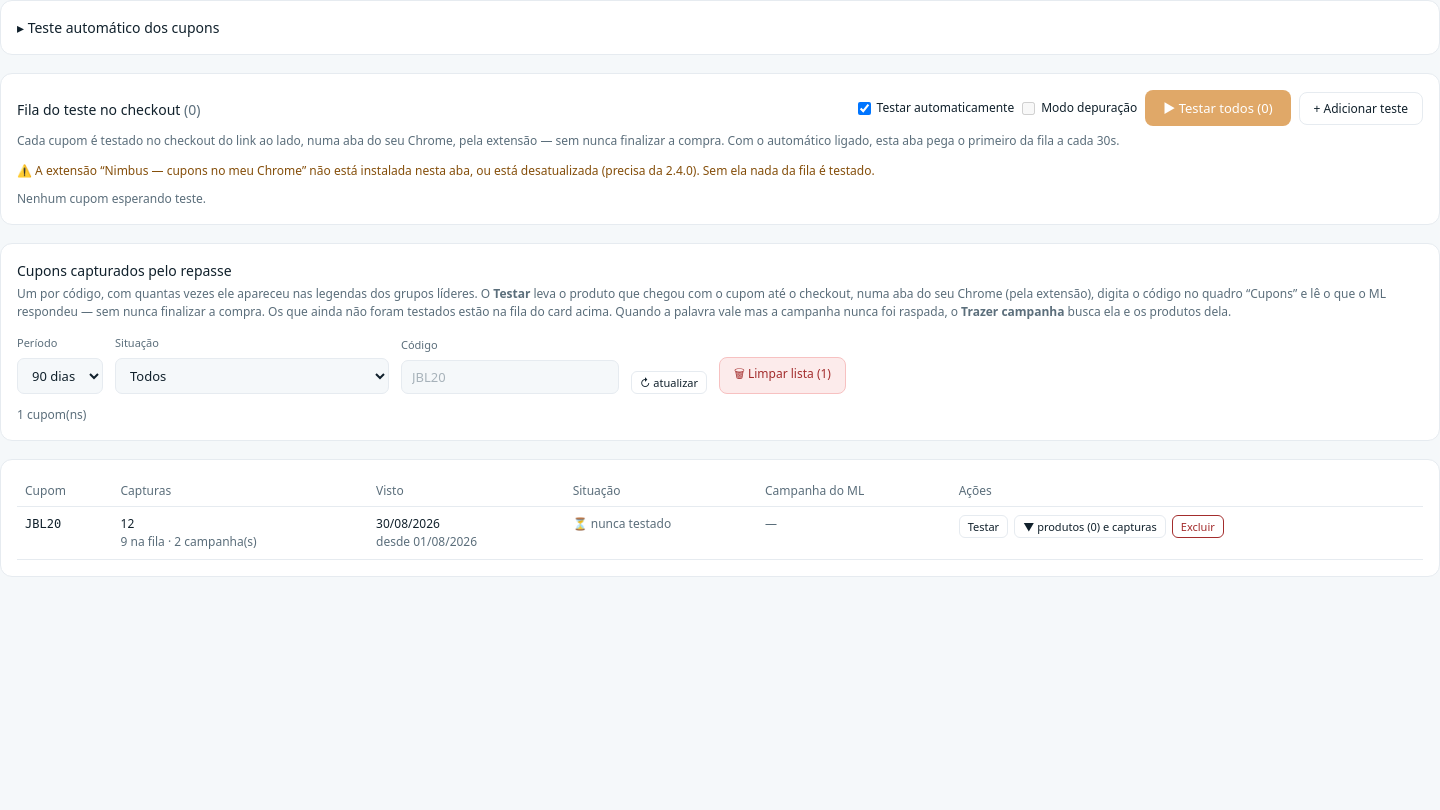
Test: Admin › Cupom › Repasse › expandir a linha busca as capturas daquele cupom
Click the button "▼ produtos (0) e capturas".
click(1090, 526)  # box x1=1014 y1=514 x2=1166 y2=538
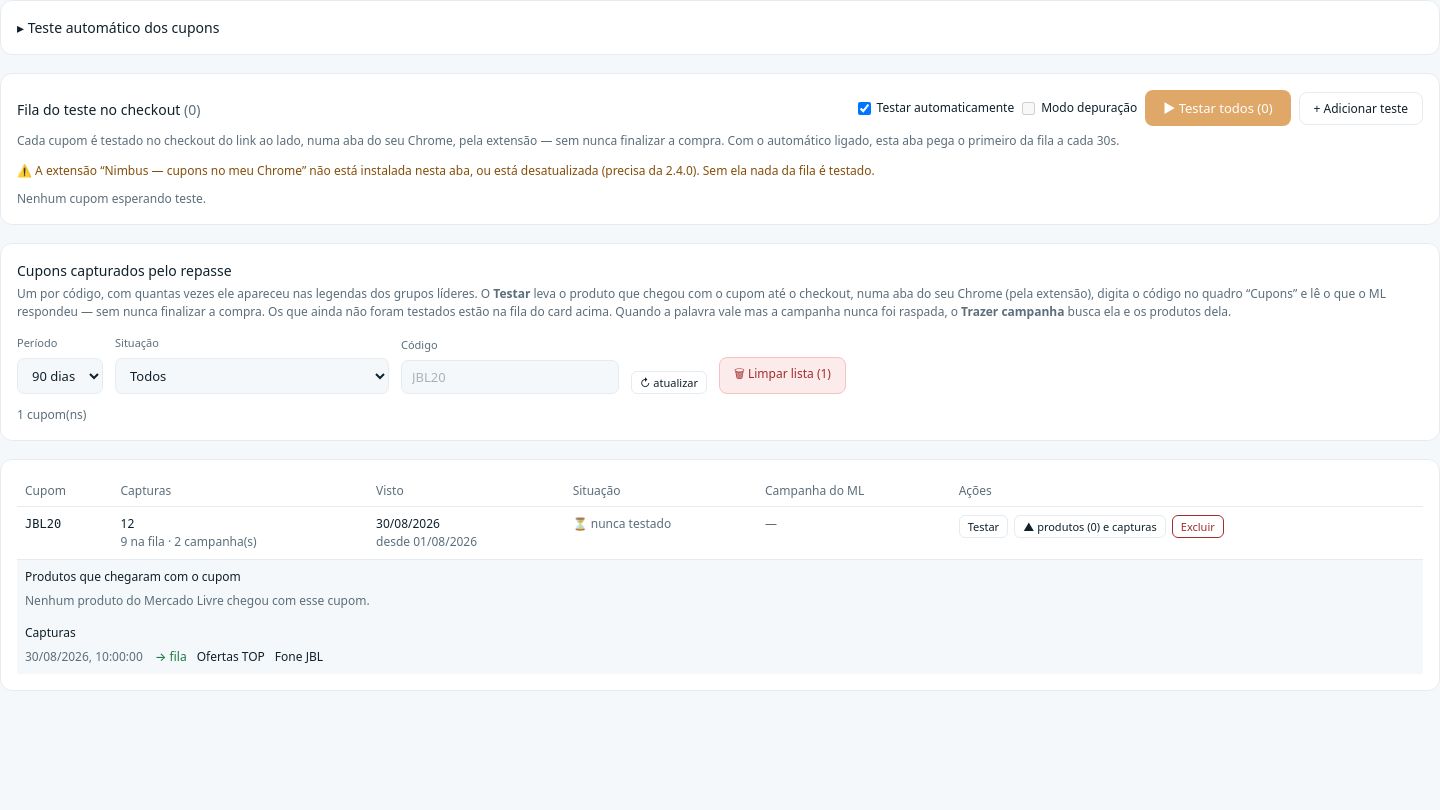
Check: the text "Fone JBL" is shown, box x1=275 y1=648 x2=323 y2=664
Check: the text "Ofertas TOP" is shown, box x1=197 y1=648 x2=265 y2=666
